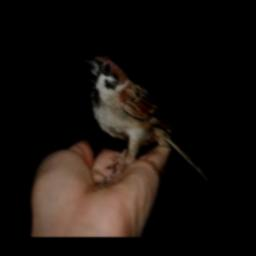Sparrow: (81, 53, 209, 181)
